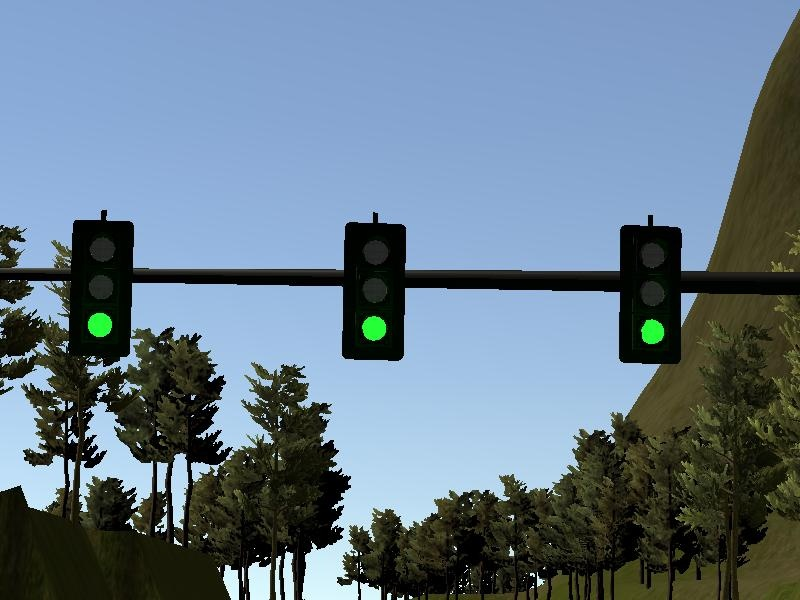traffic_light_green: (40, 208, 779, 369)
